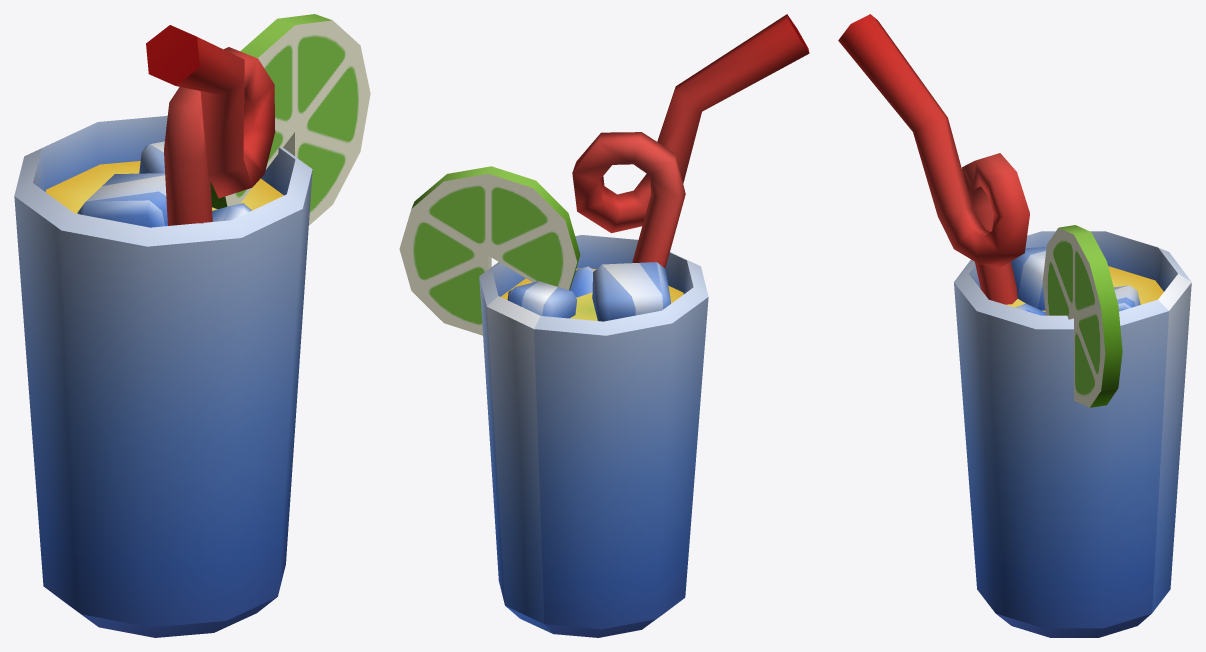
Rendered from m_Cocktail12.fbx.
3 views of the same model, side by side, from view 1: azimuth 30°, elevation 25°; view 2: azimuth 150°, elevation 25°; view 3: azimuth 270°, elevation 25° (orthographic). The views are drawn at different scales.
Parts seen in each view (by area): view 1: m_Cocktail12; view 2: m_Cocktail12; view 3: m_Cocktail12.
Part boxes in pixels (bbox=[...]): m_Cocktail12: bbox=[14, 14, 370, 637]; m_Cocktail12: bbox=[399, 14, 809, 637]; m_Cocktail12: bbox=[838, 14, 1191, 637].
Bounding box in the file's own units: 18.46 × 32.78 × 19.29.
